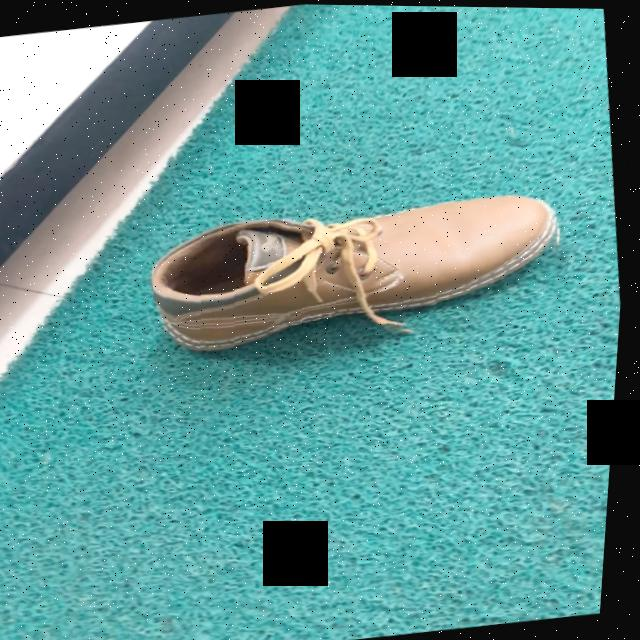shoe: (156, 196, 561, 356)
